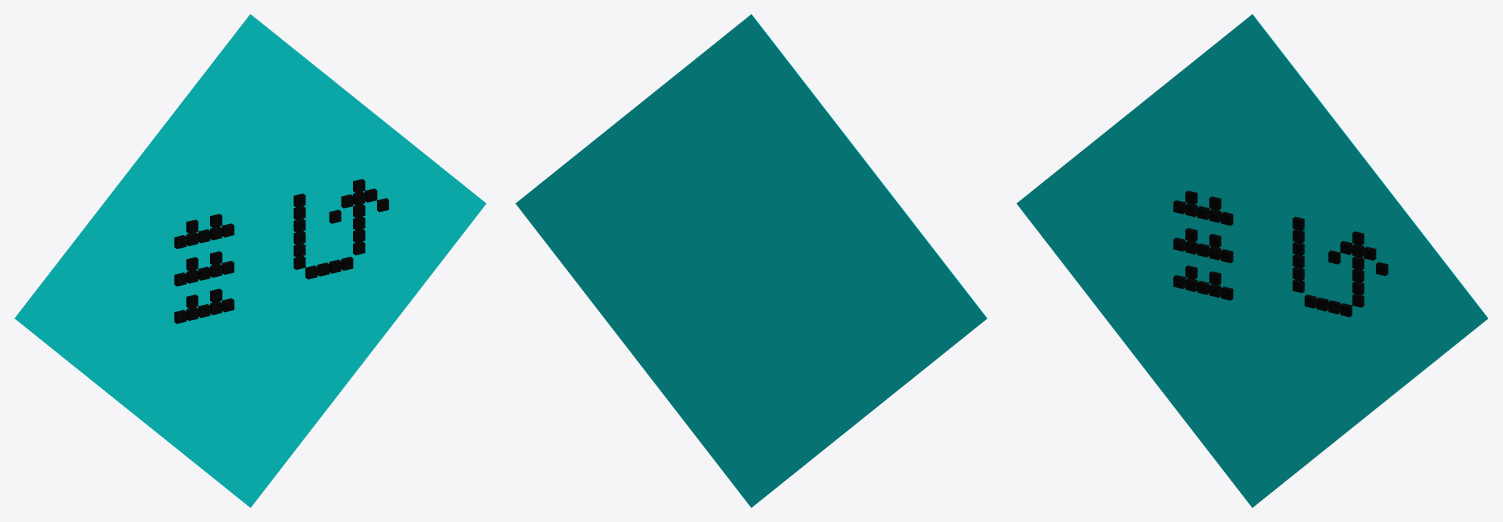
The model's file is ClearSetStatus.fbx.
The picture shows the model from 3 angles, left to right: view 1: azimuth 30°, elevation 25°; view 2: azimuth 150°, elevation 25°; view 3: azimuth 330°, elevation 25°; orthographic projection.
Parts seen in each view (by area): view 1: Cube.021; view 2: Cube.021; view 3: Cube.021.
Boxes of the visible parts, x1,y1,x2,y2 form: Cube.021: (14, 14, 486, 507); Cube.021: (515, 14, 987, 507); Cube.021: (1016, 14, 1488, 507).
Size of the model in its own units: 198 by 198 by 2.1.
